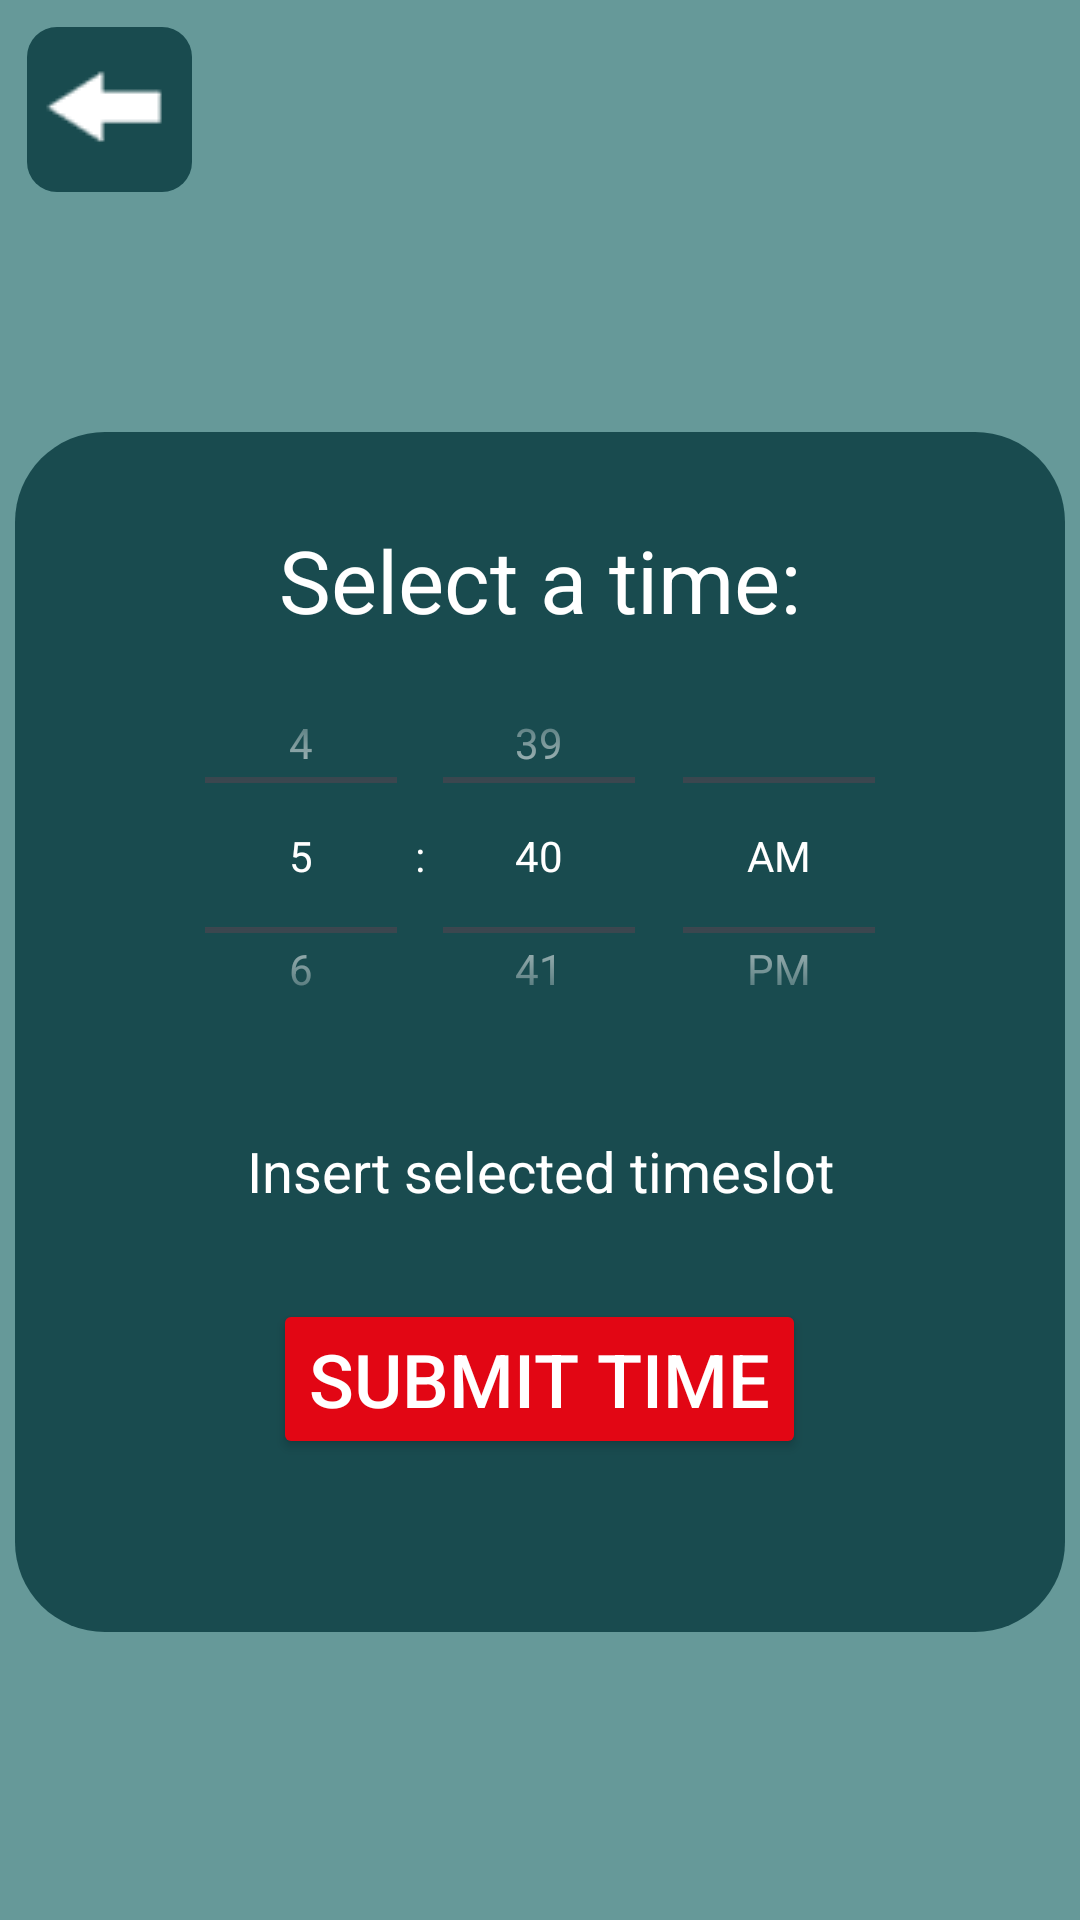

Locate icon controls on the screen. Image size 1080 x 1920, boxes as box=[x1, y1, x2, y2].
go back: box=[27, 27, 192, 192]
